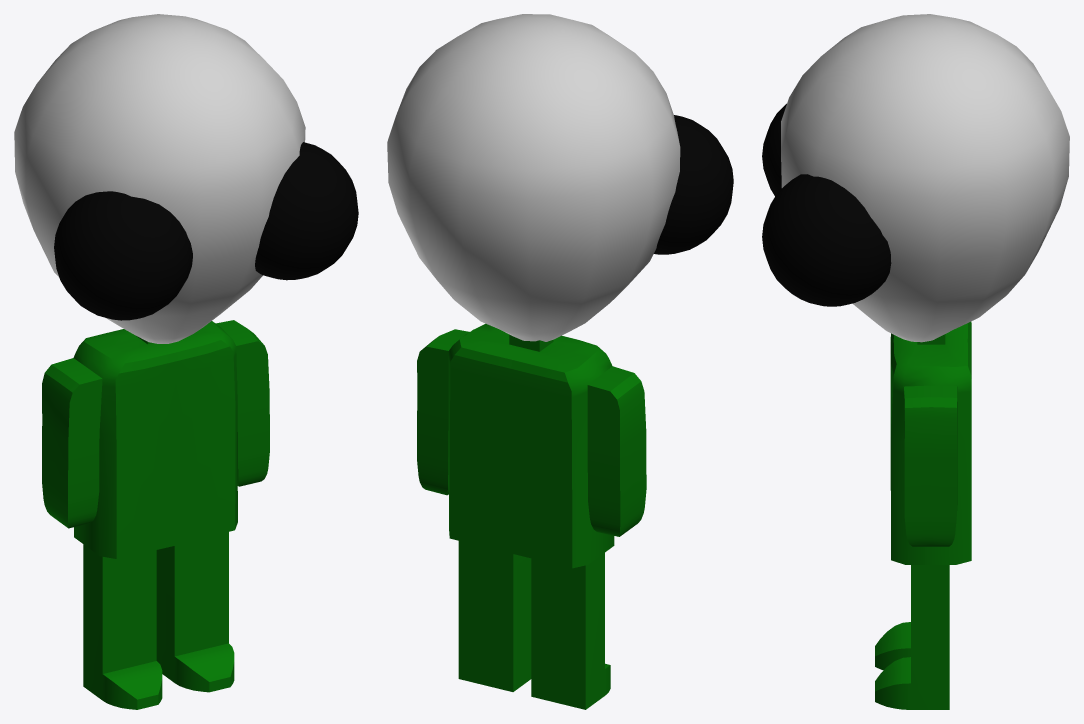
File: alien.obj
3 renders of one model, left to right at view 1: azimuth 30°, elevation 25°; view 2: azimuth 150°, elevation 25°; view 3: azimuth 270°, elevation 25°, orthographic.
Parts seen in each view (by area): view 1: Cube, Sphere, Sphere.001; view 2: Sphere, Cube, Sphere.001; view 3: Sphere, Cube, Sphere.001.
Part boxes in pixels (x1,y1,x2,y2): Cube: (42,320,269,709); Sphere: (14,14,305,343); Sphere.001: (54,142,358,320); Sphere: (387,14,680,341); Cube: (417,323,646,709); Sphere.001: (654,115,733,254); Sphere: (781,14,1069,342); Cube: (875,321,971,709); Sphere.001: (762,103,891,306).
Bounding box in the file's own units: 1.54 × 3.34 × 1.43.
